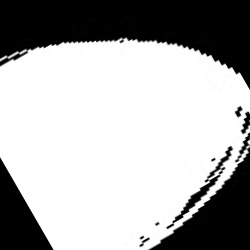spot: (1, 39, 248, 248)
